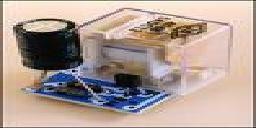Electrolytic-capacitor: (7, 14, 80, 88)
